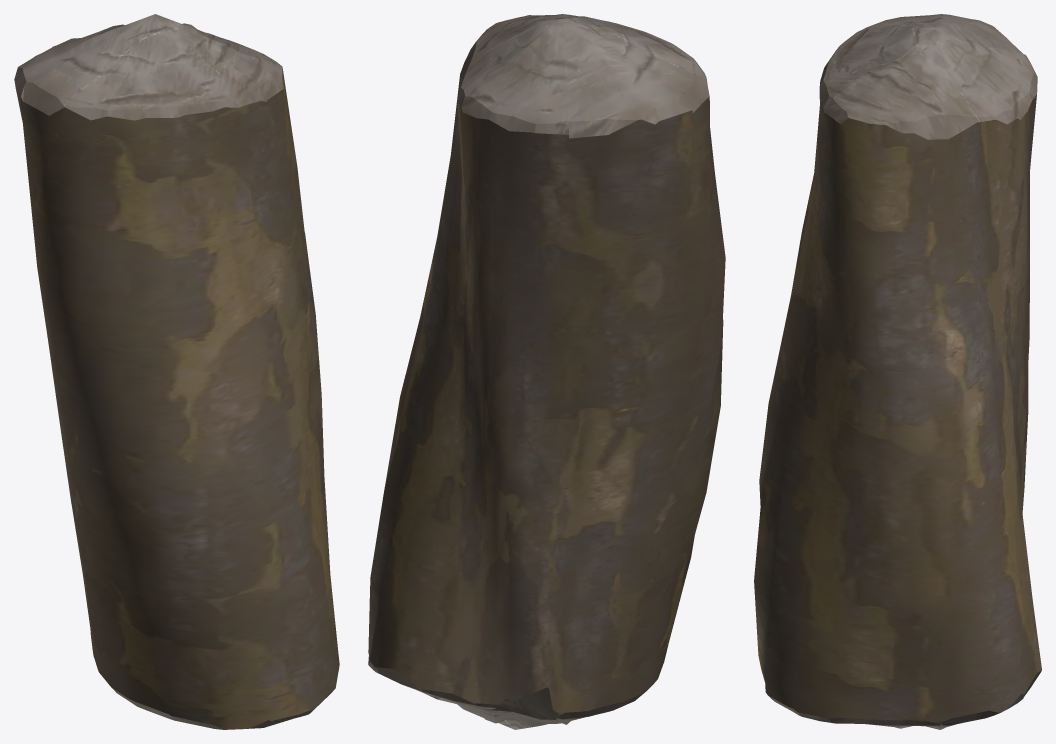
The picture shows the model from 3 angles, left to right: view 1: azimuth 30°, elevation 25°; view 2: azimuth 150°, elevation 25°; view 3: azimuth 270°, elevation 25°; orthographic projection. The views are drawn at different scales.
Visible parts, largest first — view 1: SM_Yew_02_quarter_02_LOD0; view 2: SM_Yew_02_quarter_02_LOD0; view 3: SM_Yew_02_quarter_02_LOD0.
Part boxes in pixels (box(x1,y1,x2,y2)): SM_Yew_02_quarter_02_LOD0: box(14, 14, 339, 729); SM_Yew_02_quarter_02_LOD0: box(368, 14, 725, 729); SM_Yew_02_quarter_02_LOD0: box(754, 14, 1041, 729).
Size of the model in its own units: 1.06 by 2.4 by 0.9297.
1 material, 1 textured.
